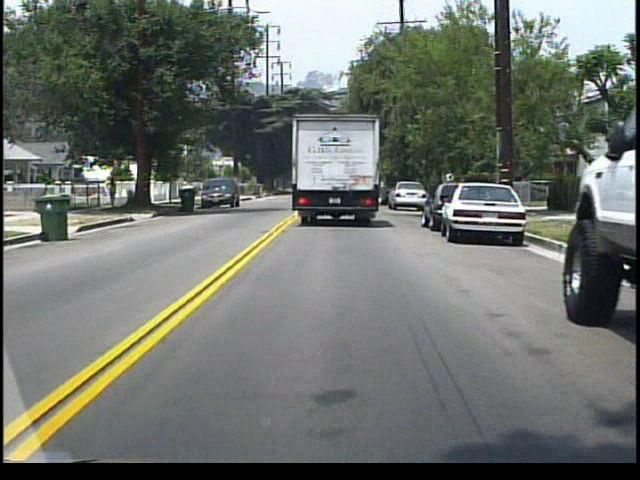person: (109, 177, 121, 209)
